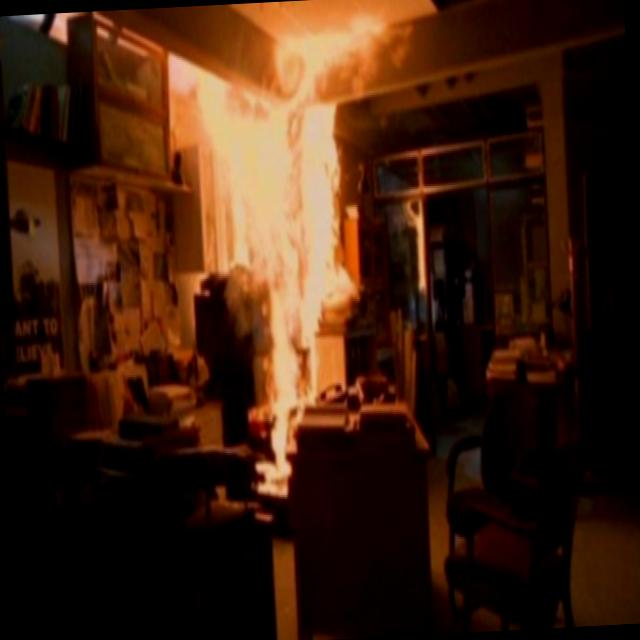fire: (158, 0, 414, 521)
